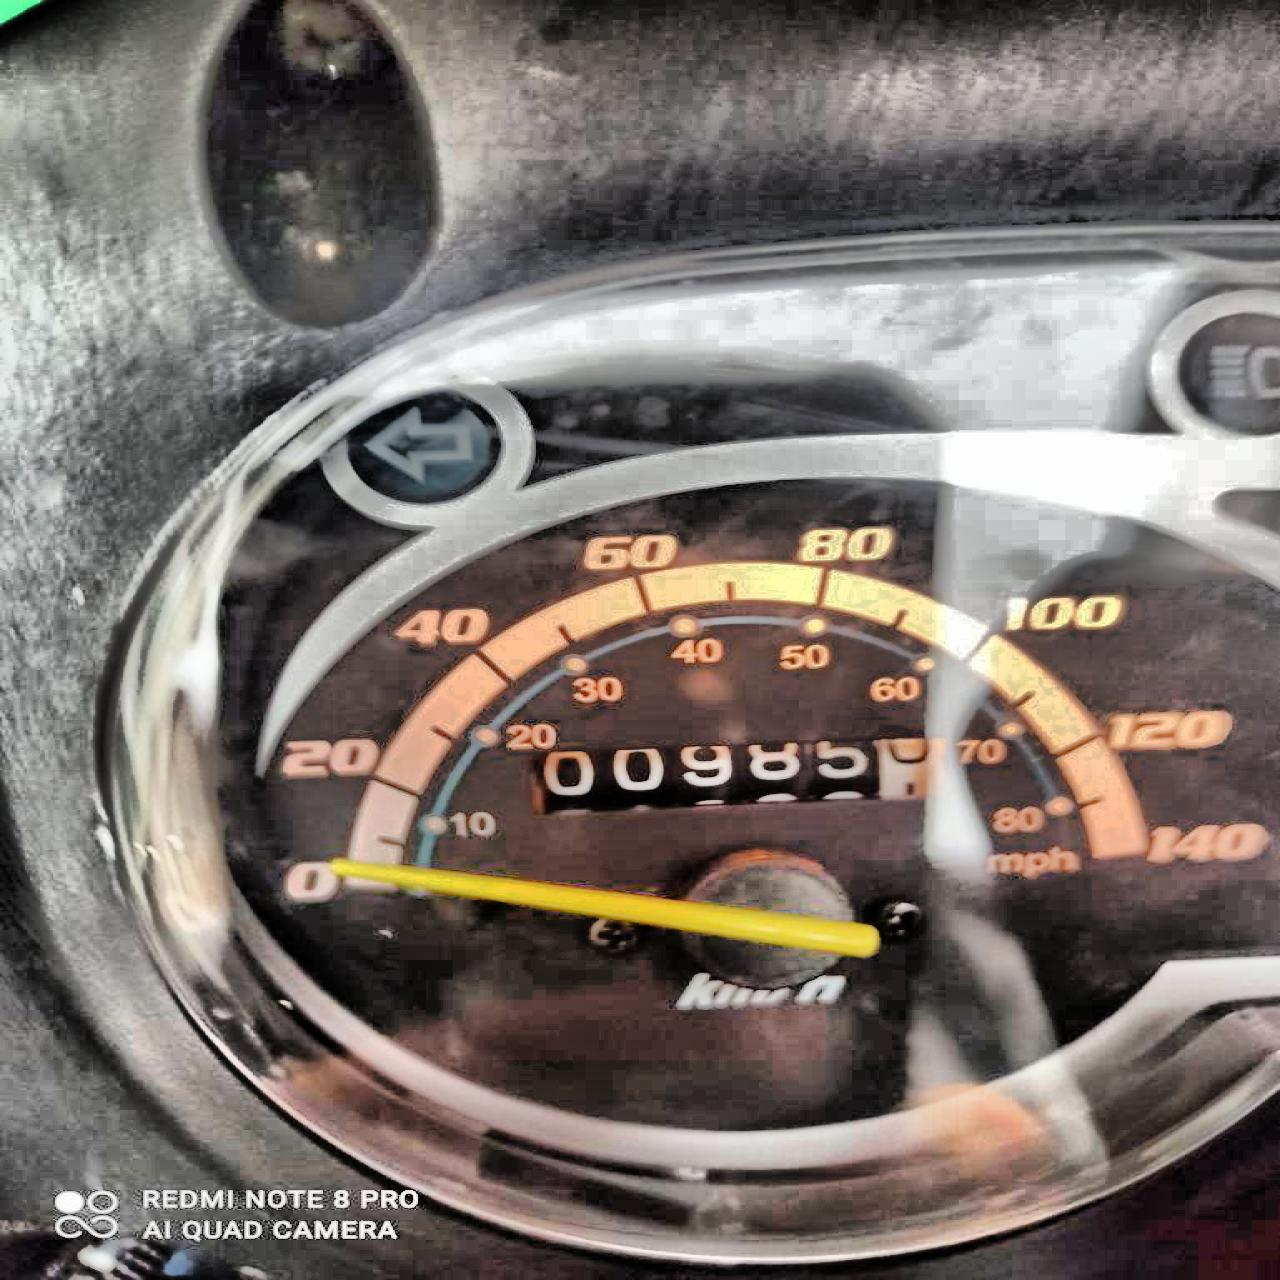0: (542, 749, 598, 799), (610, 742, 661, 792), (884, 735, 935, 772), (535, 722, 558, 747)
5: (811, 736, 872, 783)
8: (745, 737, 801, 783)
9: (679, 740, 736, 791)
odometer: (527, 724, 946, 815)
